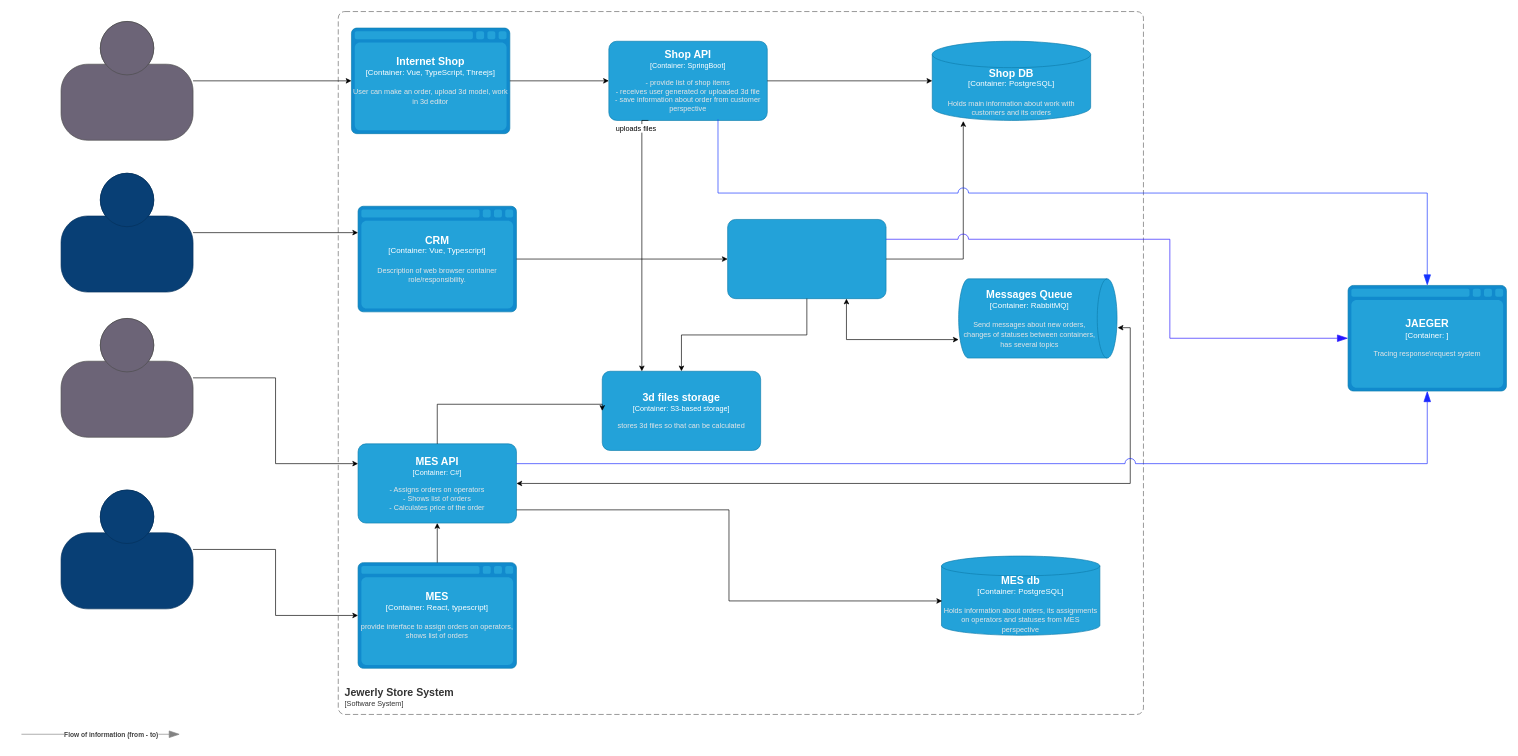
Image size: 1518x756. Some labels were removed from this diagram. Each missing label, with the centre of its shape:
API user [Person] Description of external person.: point 126,377
CRM API [Container: SpringBoot] Description of container role/responsibility.: point 806,259
Customer [Person] Description of external person.: point 126,80
Operator [Person] Takes order in work, manufactures jewerly: point 126,549
Seller [Person] Operates with order, confirms manufacturing for the user: point 126,232
